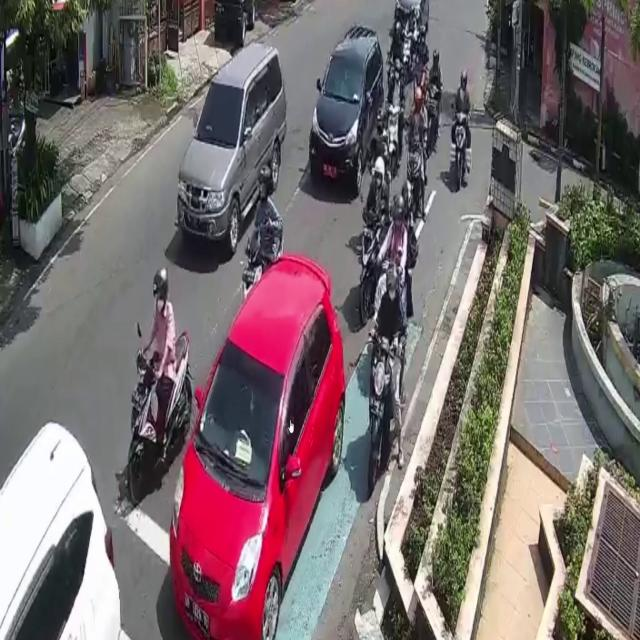bus: (124, 332, 190, 504), (370, 329, 391, 494), (360, 205, 379, 326), (452, 108, 468, 194)
motorcycle: (170, 252, 344, 640), (177, 44, 286, 259), (310, 25, 384, 194)
